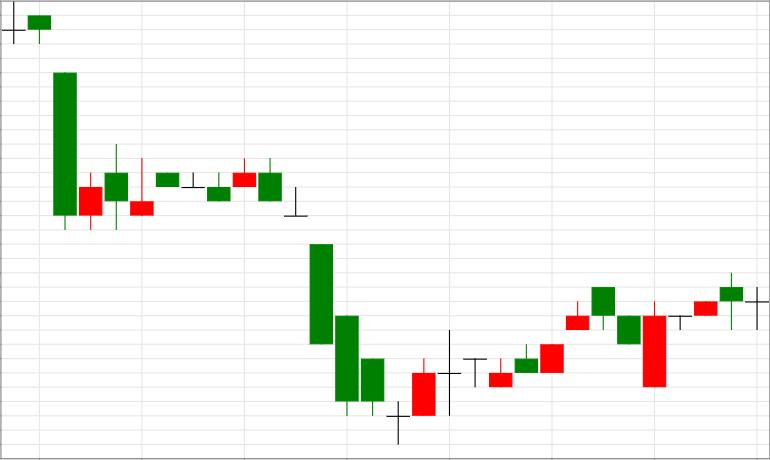morning_star_rise: (258, 158, 435, 445)
